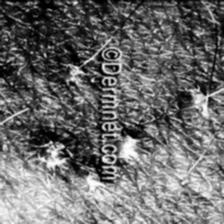Non-Cancerous Skin Condition: (32, 136, 76, 174), (119, 130, 143, 162), (190, 88, 212, 120), (64, 60, 90, 86), (0, 72, 11, 100), (86, 174, 103, 192)
